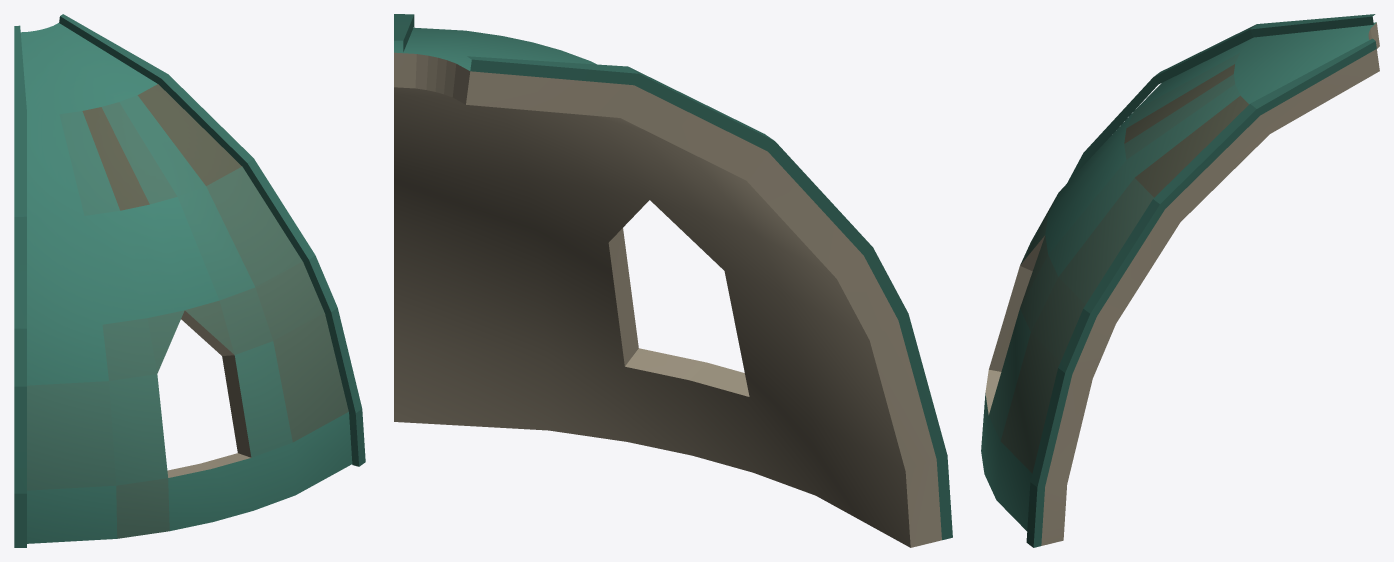
The model's file is dome.panel_6_window.copper.glb.
The picture shows the model from 3 angles, left to right: view 1: azimuth 30°, elevation 25°; view 2: azimuth 150°, elevation 25°; view 3: azimuth 270°, elevation 25°; orthographic projection. The views are drawn at different scales.
Visible parts, largest first — view 1: dome_panel_6_window_copper; view 2: dome_panel_6_window_copper; view 3: dome_panel_6_window_copper.
Part boxes in pixels (x1,y1,x2,y2): dome_panel_6_window_copper: (14,14,365,547); dome_panel_6_window_copper: (394,14,952,547); dome_panel_6_window_copper: (981,14,1379,547).
Size of what is drawn, in the model's own units: 3.57 by 3.63 by 3.1.
